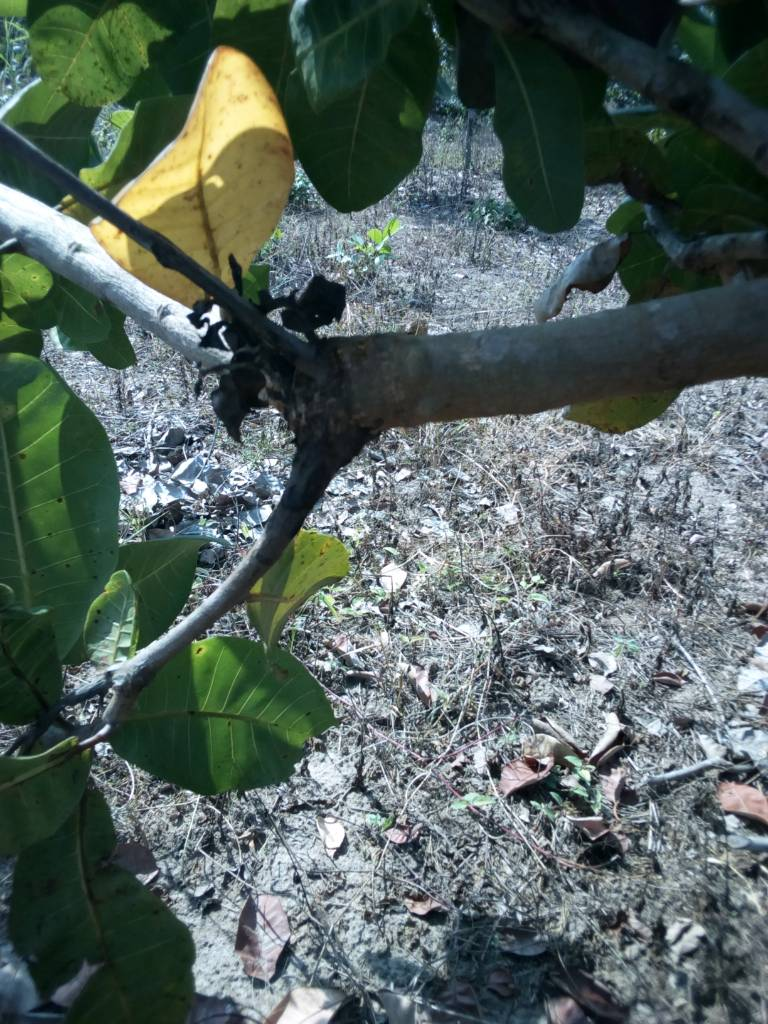Anthracnose: (86, 46, 293, 330), (13, 799, 188, 1019), (1, 364, 118, 675), (250, 530, 350, 647)
